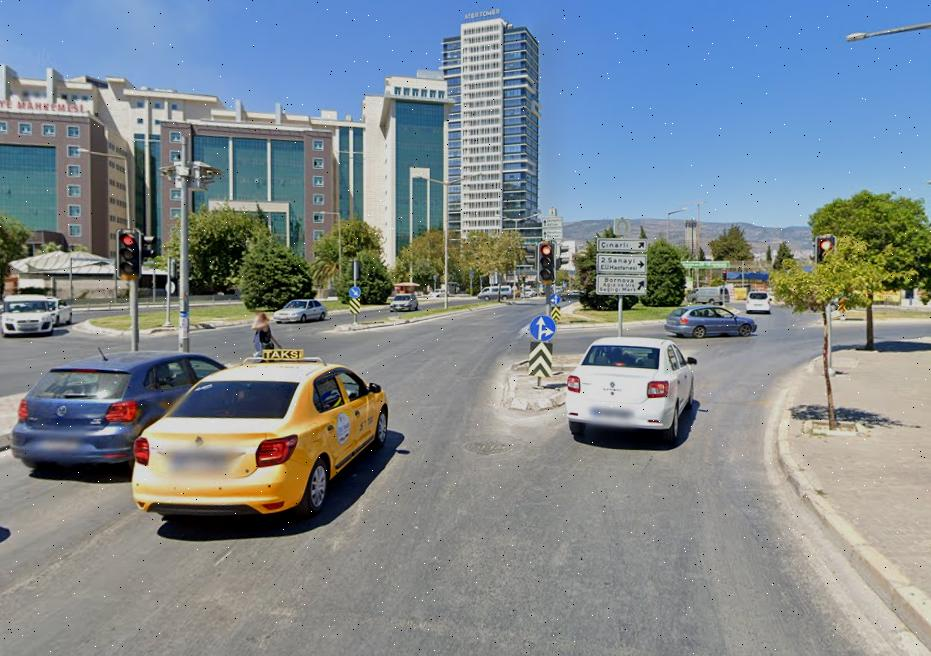redlight: (117, 231, 141, 274), (540, 243, 554, 279)
